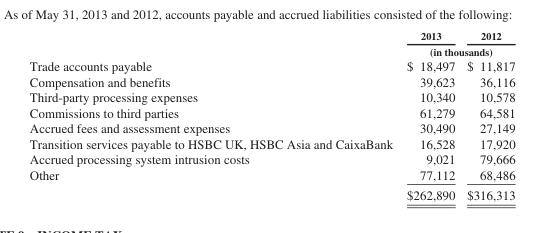table: (28, 29, 514, 202)
table column: (28, 29, 399, 202), (399, 29, 460, 202), (460, 29, 514, 202)
table column header: (28, 29, 514, 57)
table row: (28, 166, 514, 184), (28, 184, 514, 202), (28, 57, 514, 73), (28, 88, 514, 104), (28, 119, 514, 135), (28, 150, 514, 166), (28, 73, 514, 88), (28, 104, 514, 119), (28, 135, 514, 150), (28, 29, 514, 43), (28, 43, 514, 57)
table spanning cell: (399, 43, 514, 57)
